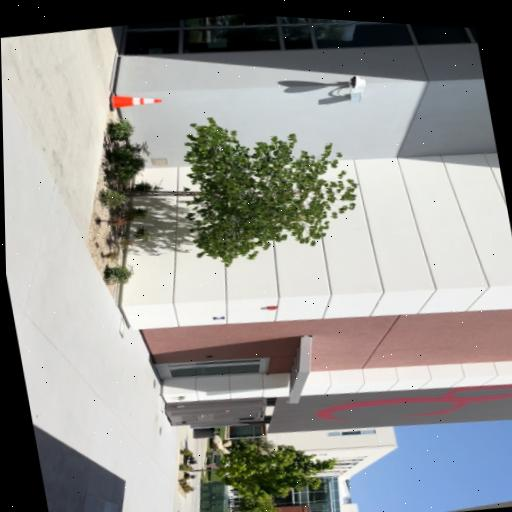target6: (212, 314, 224, 321)
